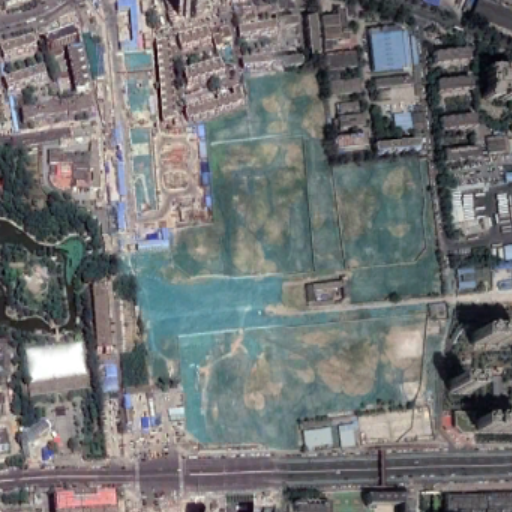cw: (119, 50, 447, 455)
